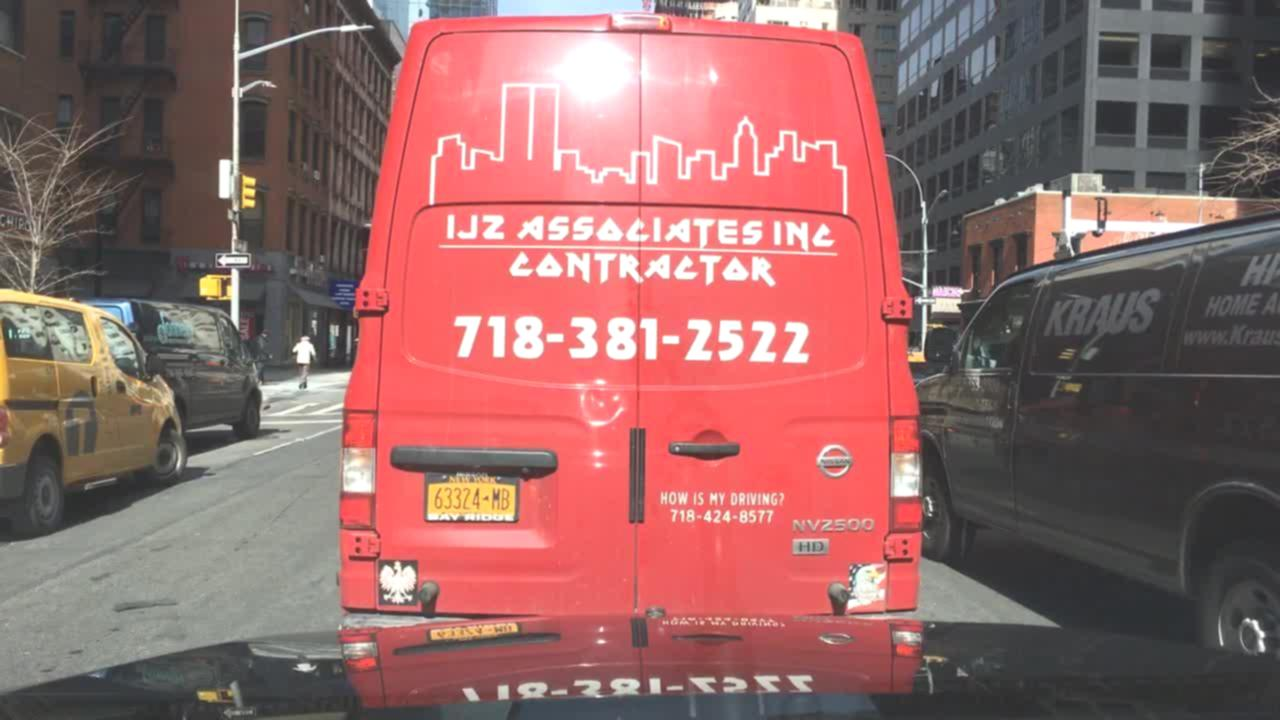Nissan: (808, 425, 863, 501)
